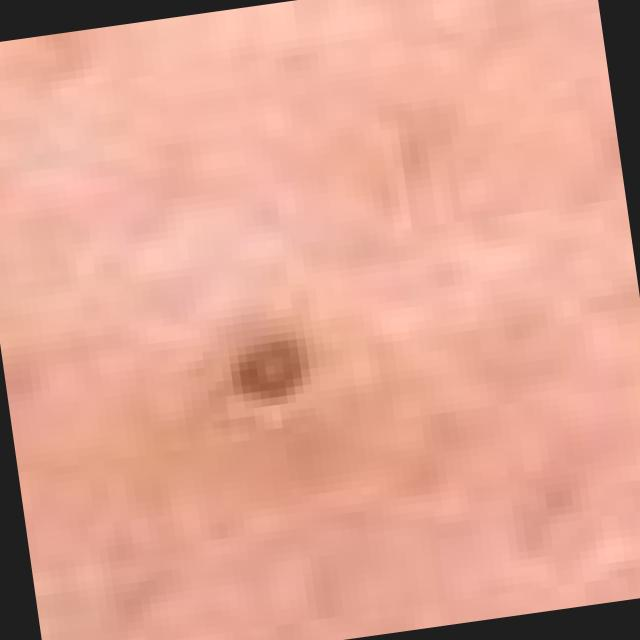blackhead: (238, 346, 301, 400)
